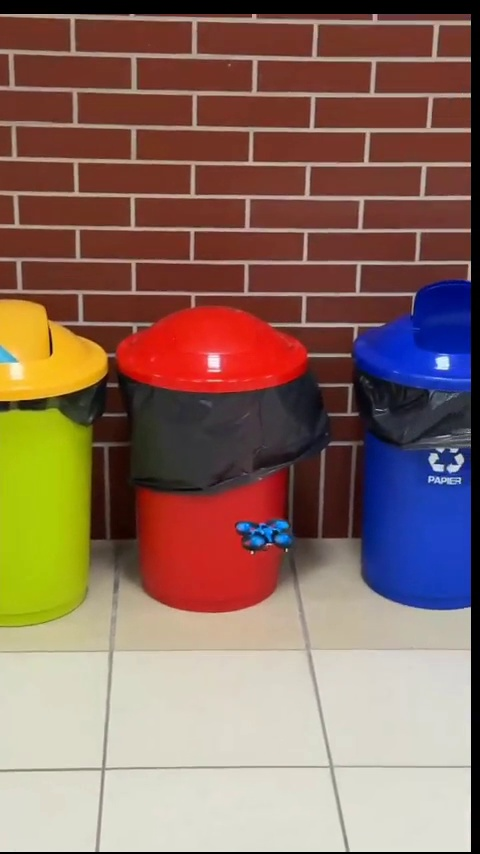drone: (233, 516, 290, 552)
